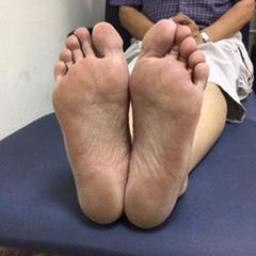Plantar View -Both Feet-: (48, 15, 215, 239)
